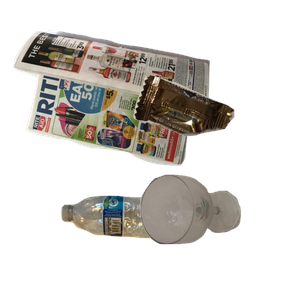glass: (138, 172, 300, 300)
paper: (11, 27, 213, 185)
plastic: (59, 193, 241, 300)
trash: (131, 73, 300, 202)
